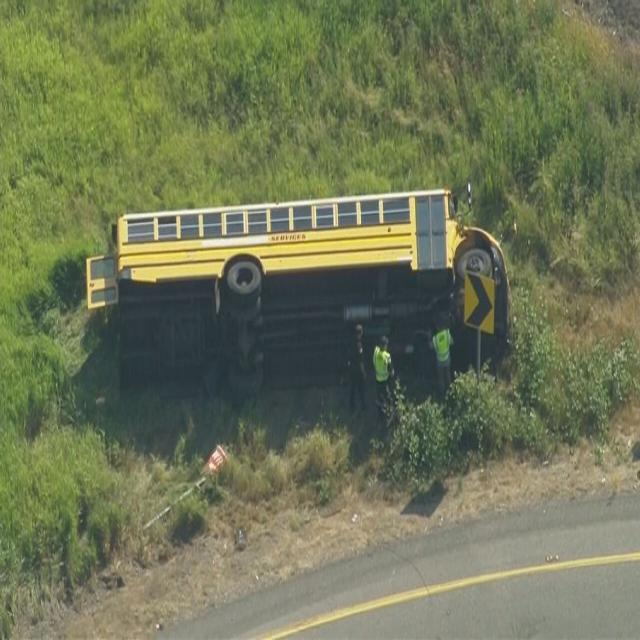Accident: (85, 177, 510, 398)
